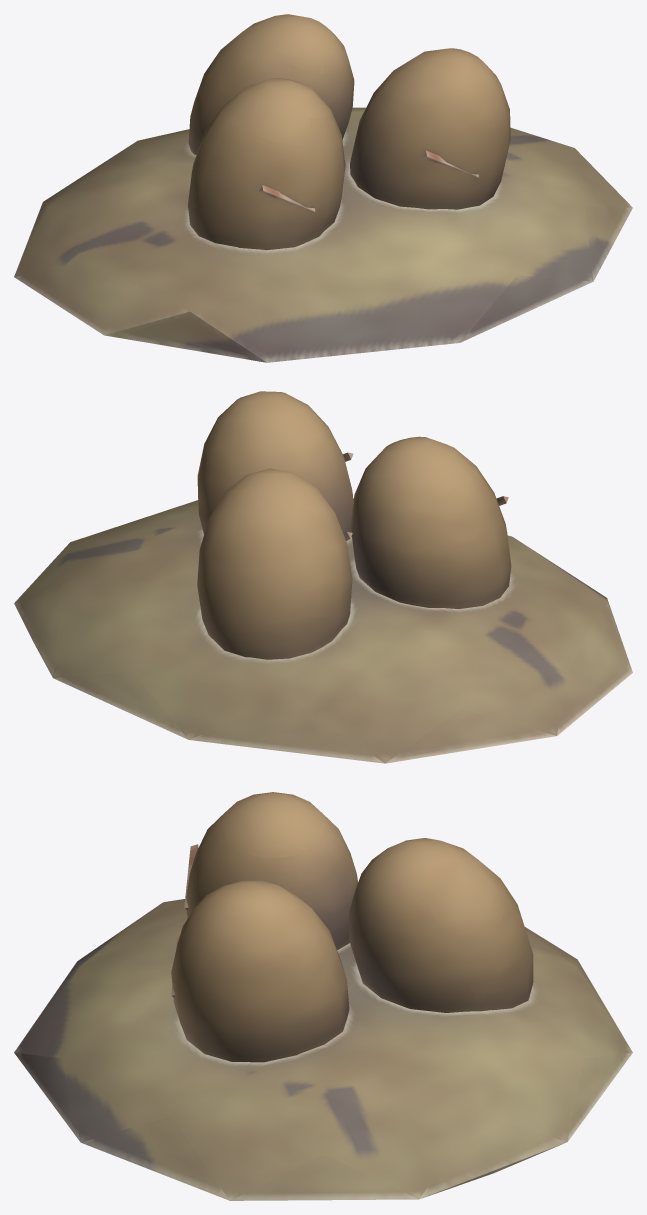
Rendered from egg.glb.
The picture shows the model from 3 angles, top to bottom: view 1: azimuth 30°, elevation 25°; view 2: azimuth 150°, elevation 25°; view 3: azimuth 270°, elevation 25°; orthographic projection. The views are drawn at different scales.
Parts seen in each view (by area): view 1: SM_Egg; view 2: SM_Egg; view 3: SM_Egg.
Part boxes in pixels (x1,y1,x2,y2): SM_Egg: (14, 14, 632, 362); SM_Egg: (14, 391, 632, 763); SM_Egg: (14, 792, 632, 1200).
Bounding box in the file's own units: 0.5419 × 0.1909 × 0.479.
2 materials, 2 textured.
